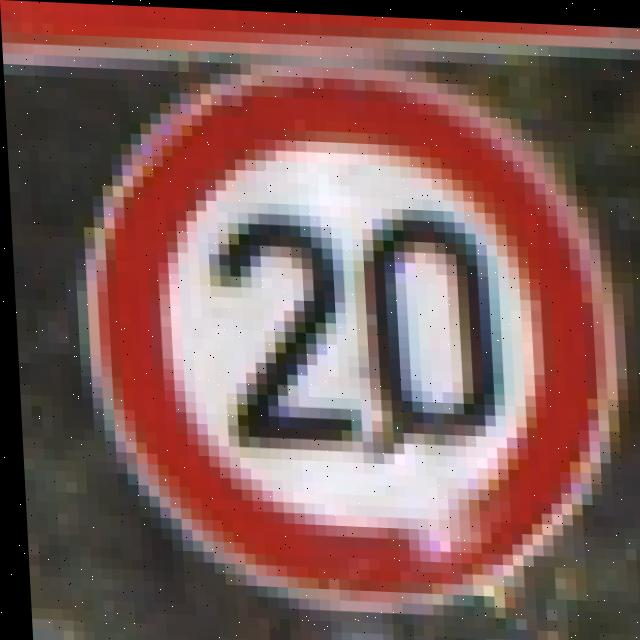speed_limit_20: (71, 53, 636, 621)
